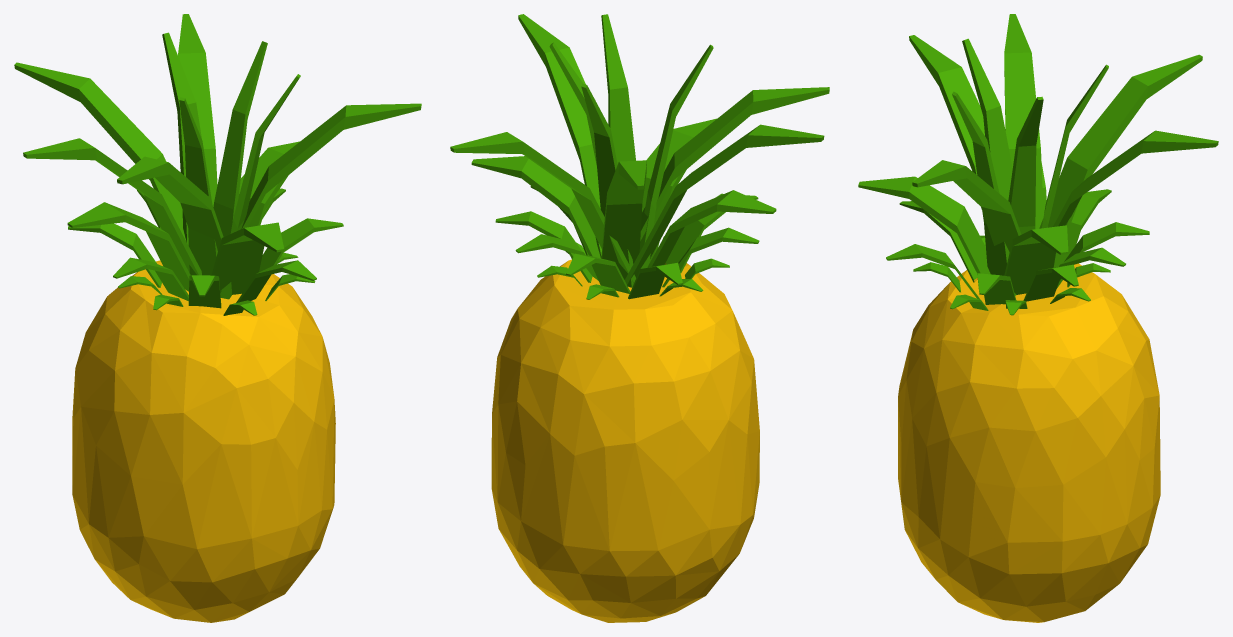
The model's file is Pineapple.fbx.
3 renders of one model, left to right at view 1: azimuth 30°, elevation 25°; view 2: azimuth 150°, elevation 25°; view 3: azimuth 270°, elevation 25°, orthographic.
Parts seen in each view (by area): view 1: PineApple; view 2: PineApple; view 3: PineApple.
Boxes of the visible parts, x1=… form: PineApple: x1=14, y1=14, x2=421, y2=622; PineApple: x1=450, y1=14, x2=829, y2=622; PineApple: x1=858, y1=14, x2=1218, y2=622.
Bounding box in the file's own units: 1.63 × 2.42 × 1.47.
